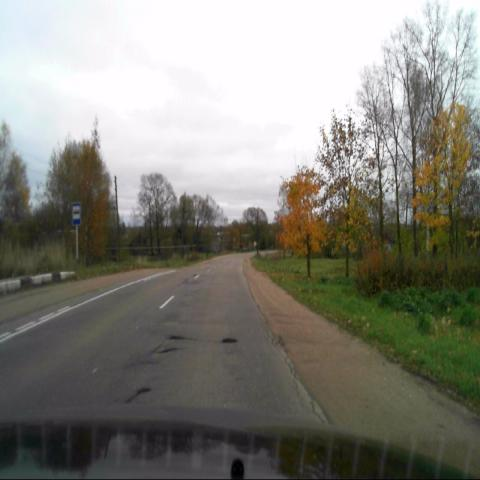5_16: (72, 201, 82, 226)
